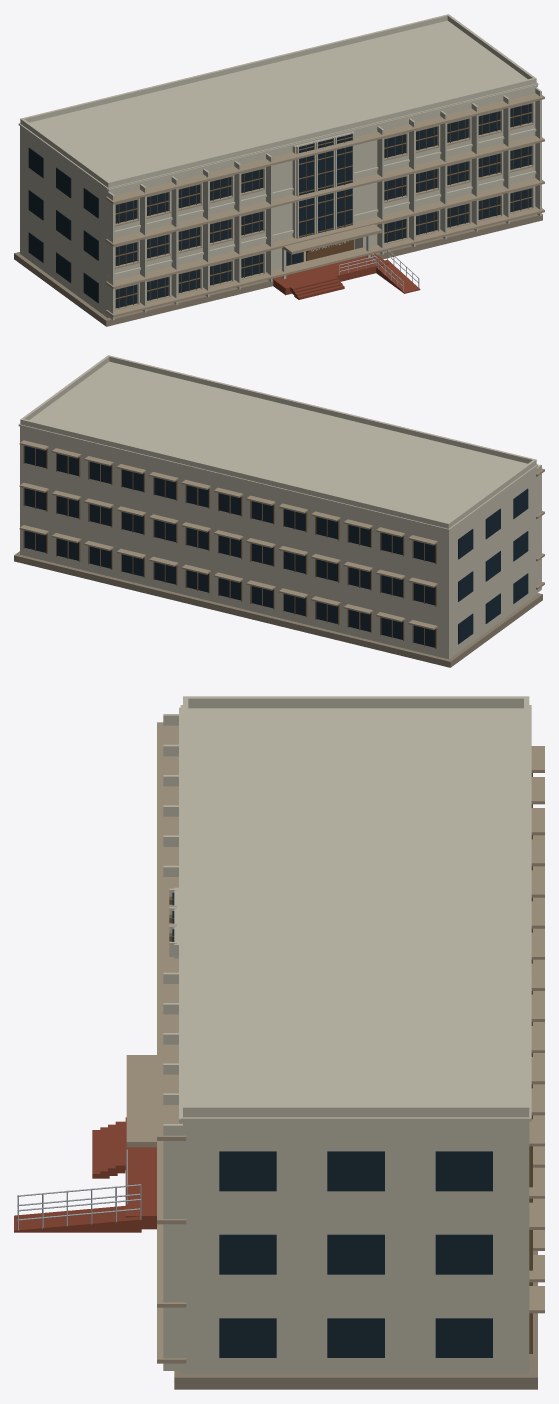
Rendered from Department_of_Civil_Engineering.glb.
3 renders of one model, top to bottom at view 1: azimuth 30°, elevation 25°; view 2: azimuth 150°, elevation 25°; view 3: azimuth 270°, elevation 25°, orthographic. The views are drawn at different scales.
Visible parts, largest first — view 1: Department of Civil Engineering - IIT Kharagpur; view 2: Department of Civil Engineering - IIT Kharagpur; view 3: Department of Civil Engineering - IIT Kharagpur.
Boxes of the visible parts, x1,y1,x2,y2 form: Department of Civil Engineering - IIT Kharagpur: (14, 14, 544, 326); Department of Civil Engineering - IIT Kharagpur: (14, 355, 544, 667); Department of Civil Engineering - IIT Kharagpur: (14, 696, 544, 1389).
Bounding box in the file's own units: 45.8 × 14.16 × 24.52.
